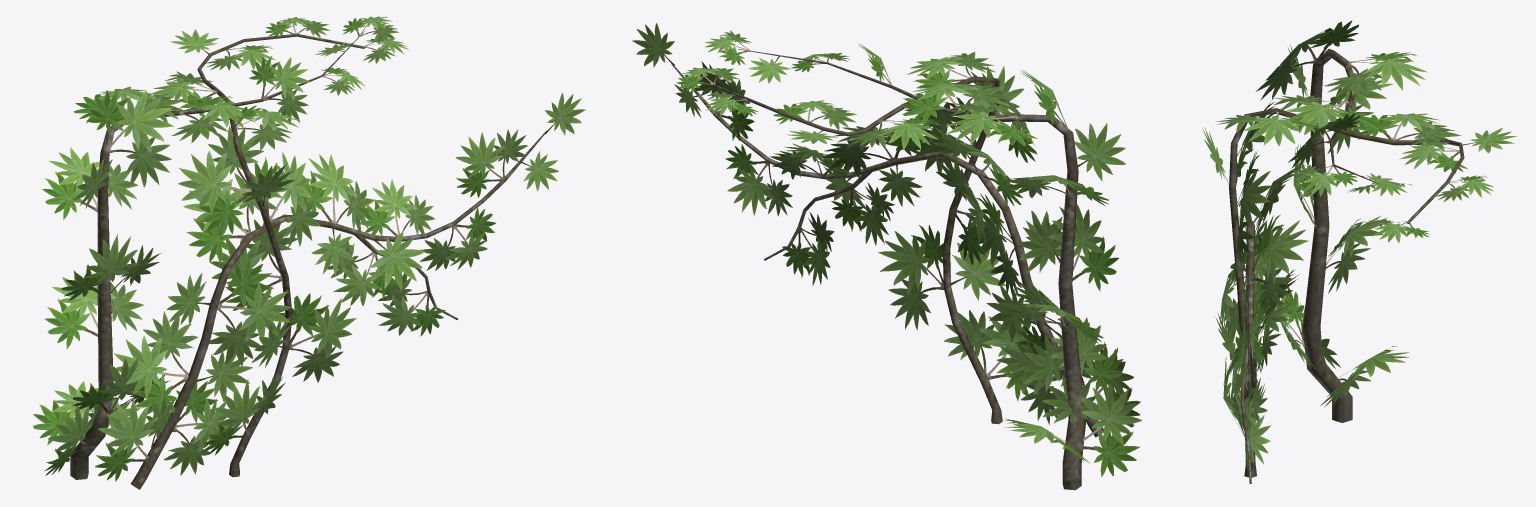
Rendered from SM_vine_a.fbx.
3 views of the same model, side by side, from view 1: azimuth 30°, elevation 25°; view 2: azimuth 150°, elevation 25°; view 3: azimuth 270°, elevation 25° (orthographic). The views are drawn at different scales.
Parts seen in each view (by area): view 1: SM_vine_geo_1, SM_vine_leaf_card_large4, SM_vine_leaf_card_large17, SM_vine_leaf_card_large24, SM_vine_leaf_card_large23, SM_vine_leaf_card_large14, SM_vine_leaf_card_large33, SM_vine_leaf_card_large7, SM_vine_leaf_card_large8, SM_vine_leaf_card_large5, SM_vine_leaf_card_large26, SM_vine_leaf_card_large34 (+30 smaller); view 2: SM_vine_geo_1, SM_vine_leaf_card_large32, SM_vine_leaf_card_large14, SM_vine_leaf_card_large5, SM_vine_leaf_card_large6, SM_vine_leaf_card_large13, SM_vine_leaf_card_large28, SM_vine_leaf_card_large3, SM_vine_leaf_card_large34, SM_vine_leaf_card_large15, SM_vine_leaf_card_large2, SM_vine_leaf_card_large24 (+27 smaller); view 3: SM_vine_geo_1, SM_vine_leaf_card_large26, SM_vine_leaf_card_large2, SM_vine_leaf_card_large4, SM_vine_leaf_card_large3, SM_vine_leaf_card_large16, SM_vine_leaf_card_large19, SM_vine_leaf_card_large7, SM_vine_leaf_card_large18, SM_vine_leaf_card_large9, SM_vine_leaf_card_large20, SM_vine_leaf_card_large8 (+20 smaller).
Boxes of the visible parts, x1,y1,x2,y2 form: SM_vine_geo_1: (70, 31, 546, 489); SM_vine_leaf_card_large4: (86, 88, 173, 187); SM_vine_leaf_card_large17: (178, 125, 263, 236); SM_vine_leaf_card_large24: (209, 259, 290, 366); SM_vine_leaf_card_large23: (114, 311, 198, 419); SM_vine_leaf_card_large14: (279, 293, 356, 382); SM_vine_leaf_card_large33: (95, 396, 179, 481); SM_vine_leaf_card_large7: (45, 270, 143, 349); SM_vine_leaf_card_large8: (42, 147, 138, 219); SM_vine_leaf_card_large5: (61, 234, 160, 300); SM_vine_leaf_card_large26: (301, 154, 374, 230); SM_vine_leaf_card_large34: (163, 381, 228, 475); SM_vine_geo_1: (671, 49, 1103, 490); SM_vine_leaf_card_large32: (1042, 375, 1141, 477); SM_vine_leaf_card_large14: (878, 225, 950, 329); SM_vine_leaf_card_large5: (1015, 204, 1118, 291); SM_vine_leaf_card_large6: (1018, 317, 1123, 395); SM_vine_leaf_card_large13: (944, 310, 1040, 401); SM_vine_leaf_card_large28: (725, 144, 792, 216); SM_vine_leaf_card_large3: (899, 82, 1012, 122); SM_vine_leaf_card_large34: (996, 325, 1058, 425); SM_vine_leaf_card_large15: (936, 154, 985, 264); SM_vine_leaf_card_large2: (945, 102, 1037, 145); SM_vine_leaf_card_large24: (966, 193, 1021, 296); SM_vine_geo_1: (1229, 49, 1464, 483); SM_vine_leaf_card_large26: (1250, 215, 1308, 316); SM_vine_leaf_card_large2: (1324, 52, 1426, 96); SM_vine_leaf_card_large4: (1256, 20, 1358, 100); SM_vine_leaf_card_large3: (1272, 95, 1380, 137); SM_vine_leaf_card_large16: (1234, 150, 1271, 271); SM_vine_leaf_card_large19: (1355, 113, 1461, 150); SM_vine_leaf_card_large7: (1324, 215, 1390, 293); SM_vine_leaf_card_large18: (1215, 111, 1319, 145); SM_vine_leaf_card_large9: (1320, 346, 1409, 407); SM_vine_leaf_card_large20: (1399, 136, 1467, 173); SM_vine_leaf_card_large8: (1327, 73, 1393, 153).
Bounding box in the file's own units: 132 × 90.26 × 60.11.
